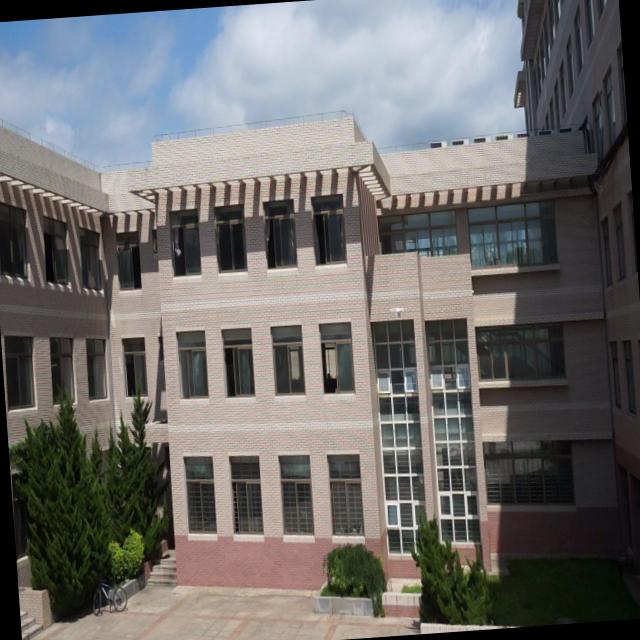drone: (390, 304, 405, 320)
